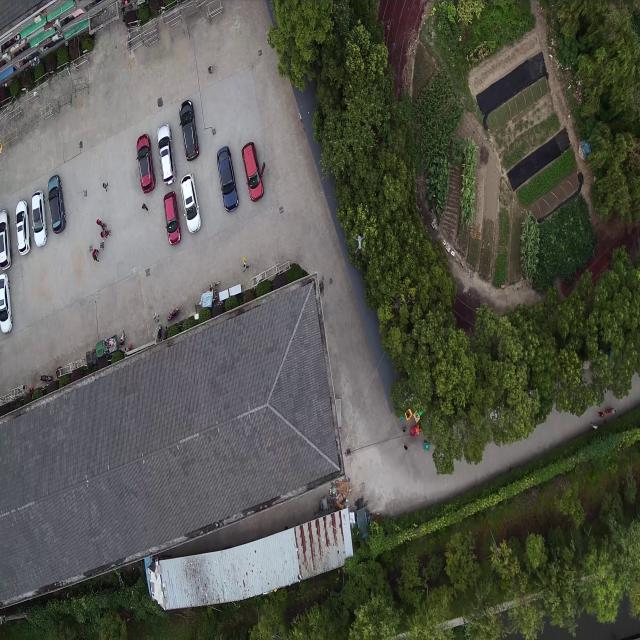UAV: (354, 234, 366, 253)
